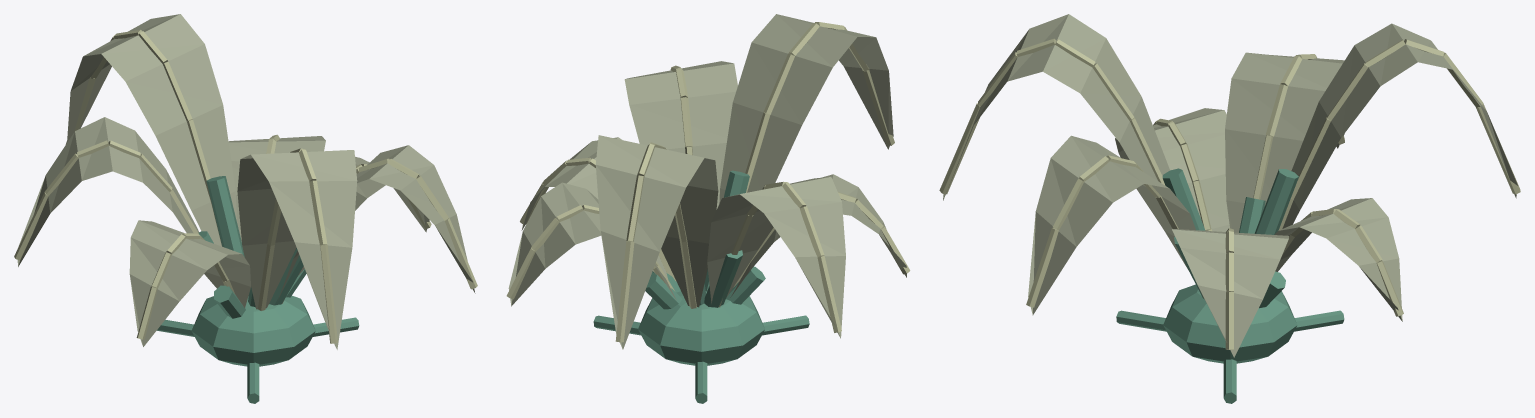
File: glowfern-dead.glb
3 renders of one model, left to right at view 1: azimuth 30°, elevation 25°; view 2: azimuth 150°, elevation 25°; view 3: azimuth 270°, elevation 25°, orthographic. The views are drawn at different scales.
Visible parts, largest first — view 1: glowfern.sway-pivot; view 2: glowfern.sway-pivot; view 3: glowfern.sway-pivot.
Part boxes in pixels (left/top/right/bottom): glowfern.sway-pivot: left=14, top=14, right=477, bottom=403; glowfern.sway-pivot: left=506, top=14, right=910, bottom=403; glowfern.sway-pivot: left=939, top=14, right=1520, bottom=403.
Bounding box in the file's own units: 0.5987 × 0.4349 × 0.7637.
